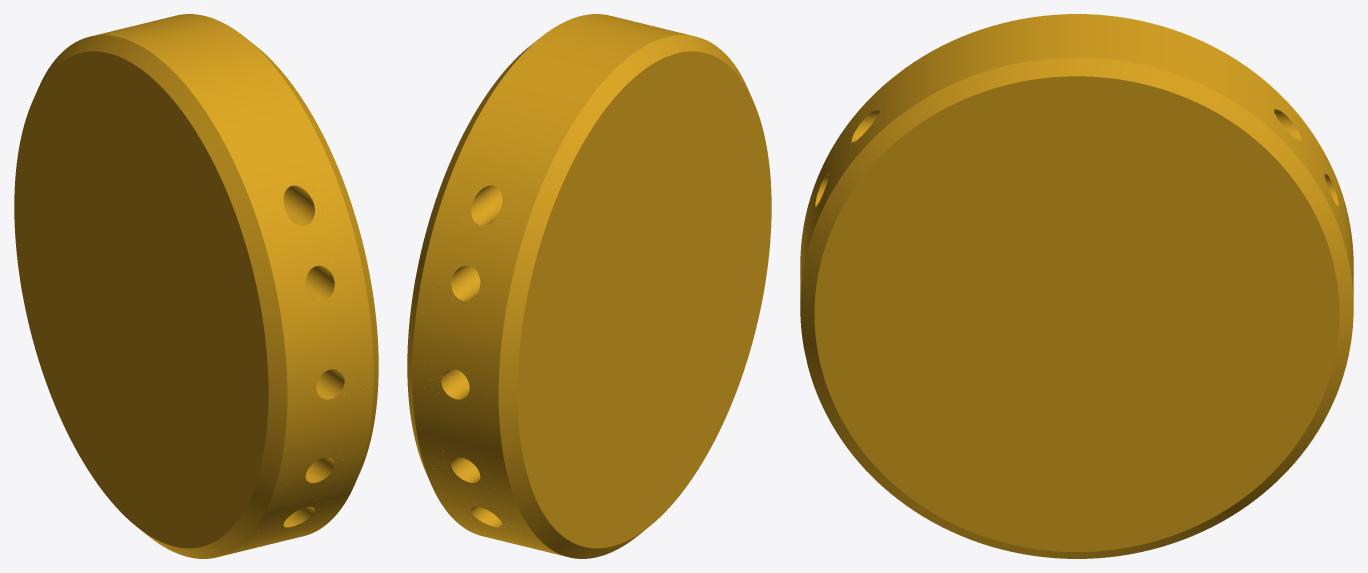
Rendered from takoz-rammer-e64-top-buffer-02.glb.
The picture shows the model from 3 angles, left to right: view 1: azimuth 30°, elevation 25°; view 2: azimuth 150°, elevation 25°; view 3: azimuth 270°, elevation 25°; orthographic projection. The views are drawn at different scales.
Parts seen in each view (by area): view 1: body; view 2: body; view 3: body.
Part boxes in pixels (bbox=[...]): body: bbox=[14, 14, 378, 558]; body: bbox=[407, 14, 771, 558]; body: bbox=[800, 14, 1353, 558].
Bounding box in the file's own units: 0.074 × 0.312 × 0.312.
